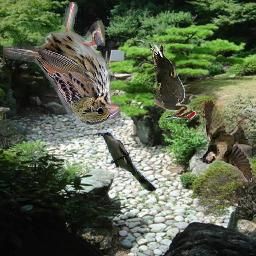Cuckoo: (98, 131, 156, 192)
Sparrow: (3, 2, 121, 126), (200, 100, 253, 182)
Woodpecker: (148, 43, 196, 120)
